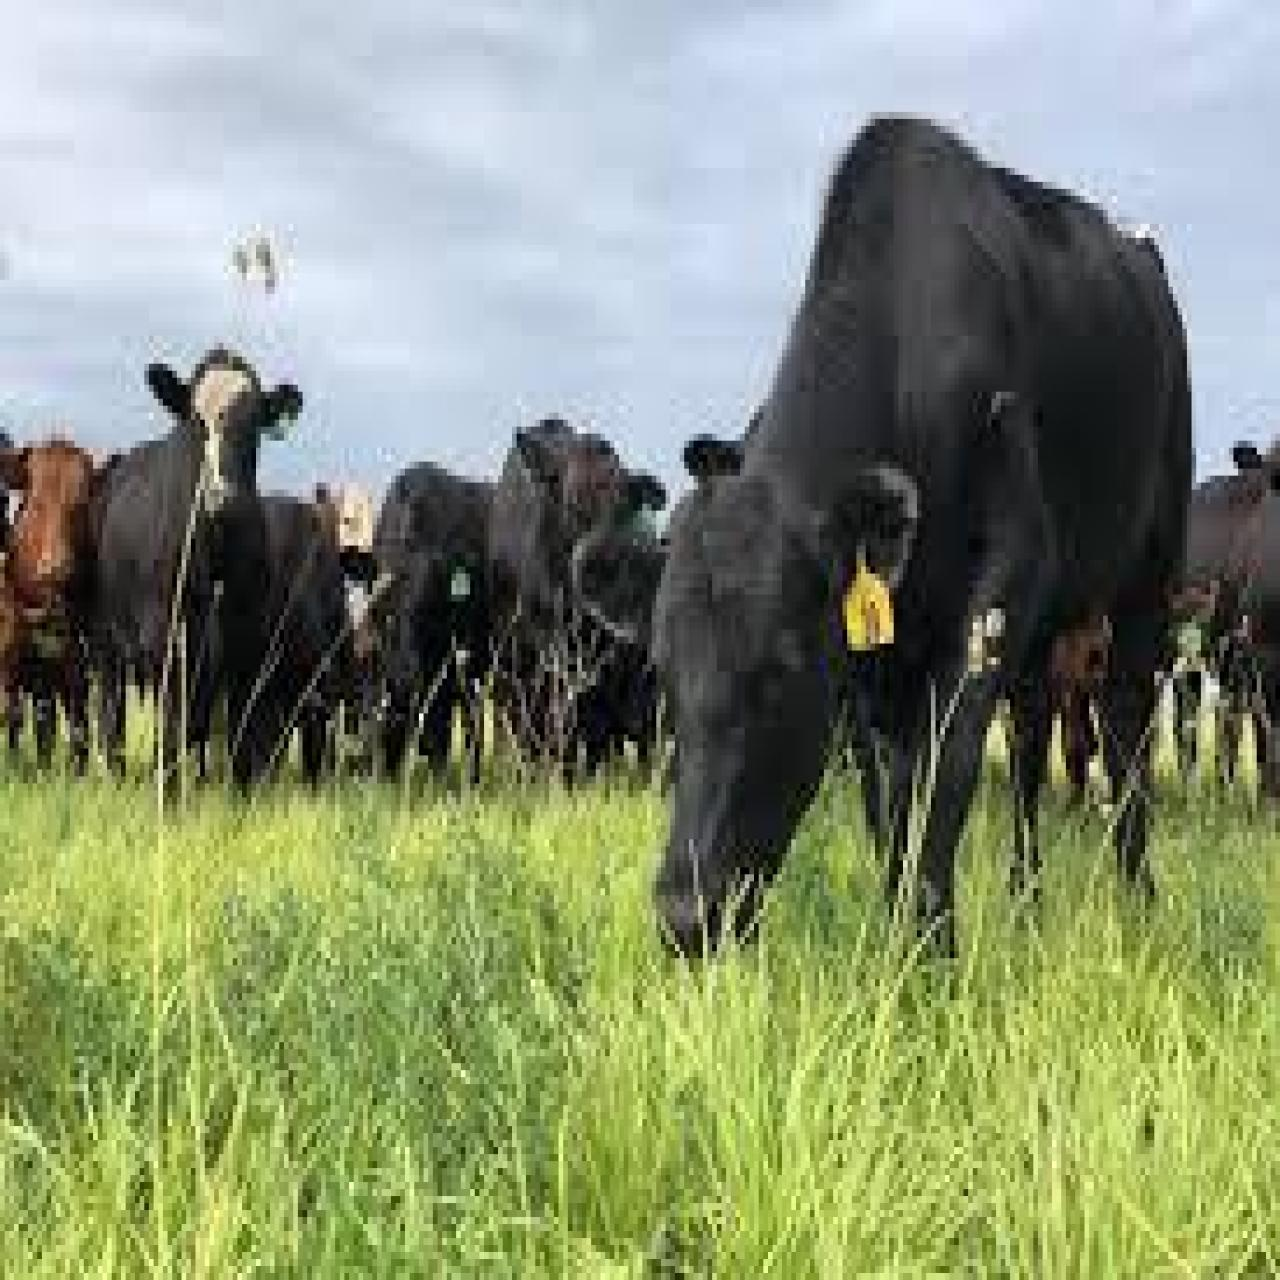cow: (563, 115, 1196, 982), (70, 346, 302, 801), (340, 458, 503, 808), (5, 434, 116, 776)
